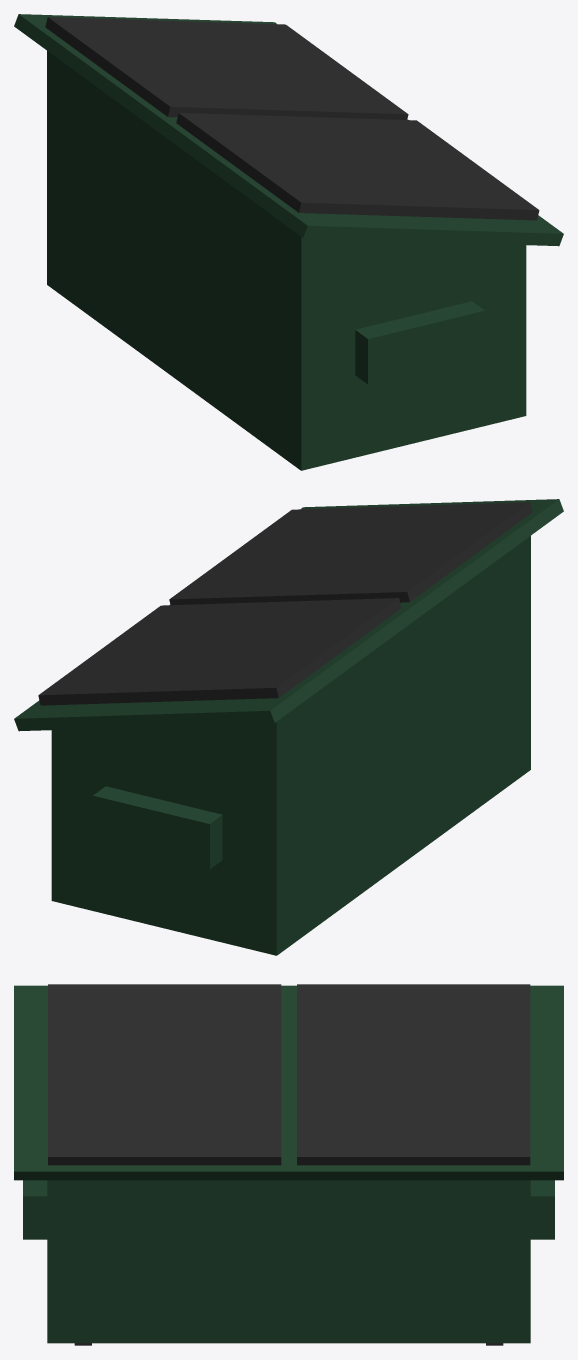
File: Dumpster.fbx
3 renders of one model, top to bottom at view 1: azimuth 30°, elevation 25°; view 2: azimuth 150°, elevation 25°; view 3: azimuth 270°, elevation 25°, orthographic. The views are drawn at different scales.
Visible parts, largest first — view 1: Cube, Cube.001; view 2: Cube, Cube.002; view 3: Cube, Cube.001, Cube.002.
Part boxes in pixels (x1,y1,x2,y2): Cube: (14, 14, 563, 470); Cube.001: (355, 301, 484, 384); Cube: (14, 499, 563, 955); Cube.002: (93, 786, 222, 869); Cube: (14, 984, 563, 1343); Cube.001: (23, 1180, 47, 1239); Cube.002: (530, 1180, 554, 1239).
Bounding box in the file's own units: 181 × 184 × 347.
